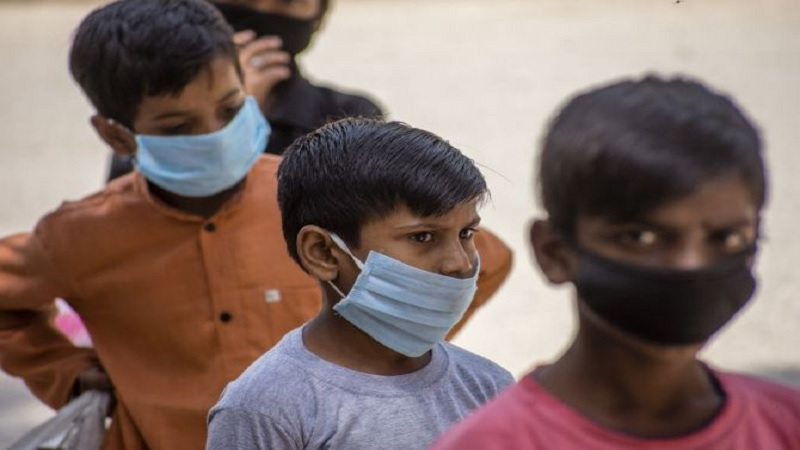with_incorrect_mask: (366, 206, 474, 350)
with_mask: (583, 178, 752, 364), (137, 85, 262, 196)
